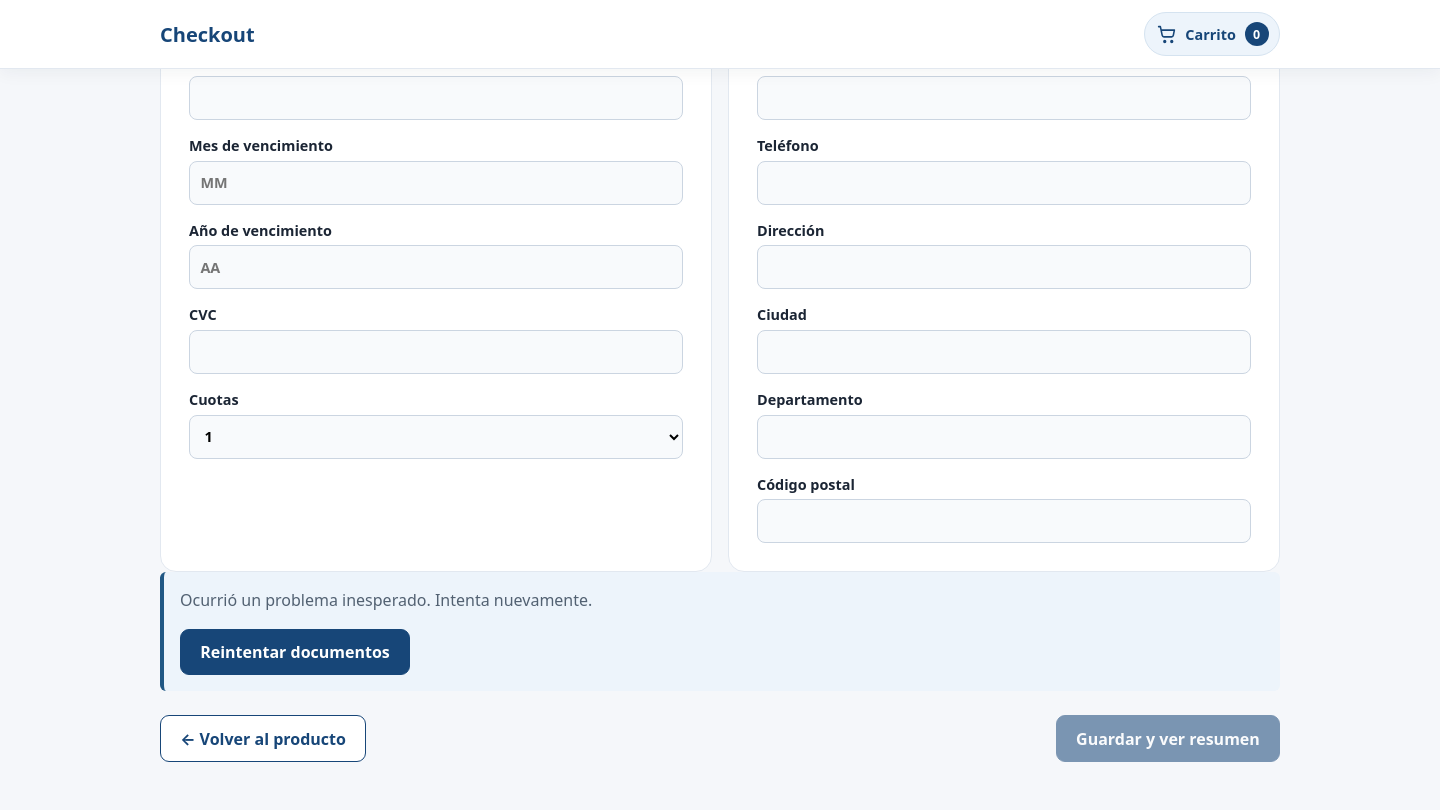
checkout muestra error de documentos y permite reintentar sin registrar cliente
The width and height of the screenshot is (1440, 810).
(page scrolled)
Check: the button "Guardar y ver resumen" is disabled, box [1056,715,1280,762]
Click the button "Reintentar documentos": [295, 652] box [180,629,410,675]
(page scrolled)
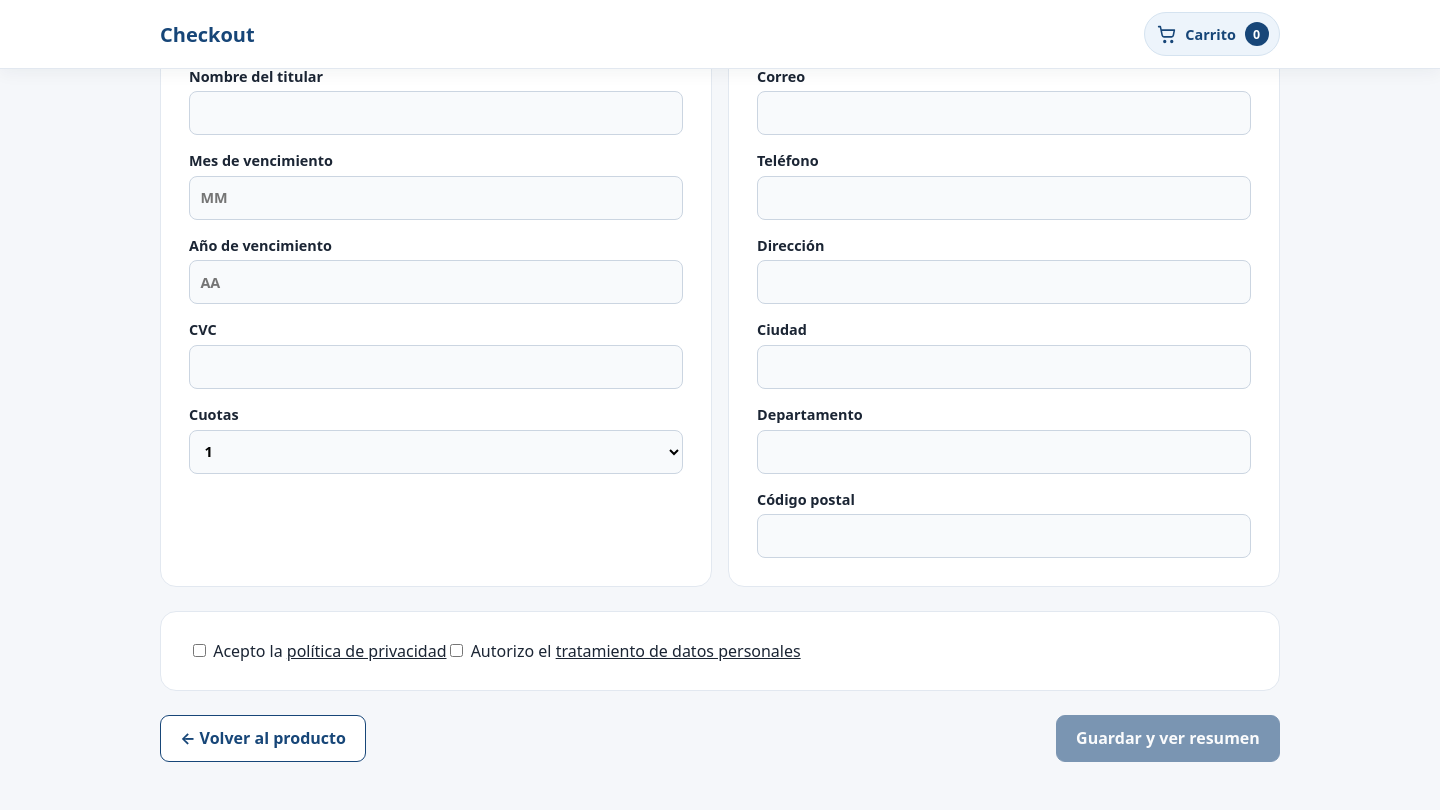
Check: the checkbox labelled "Acepto la política de privacidad" is not checked, box [193,644,206,657]
